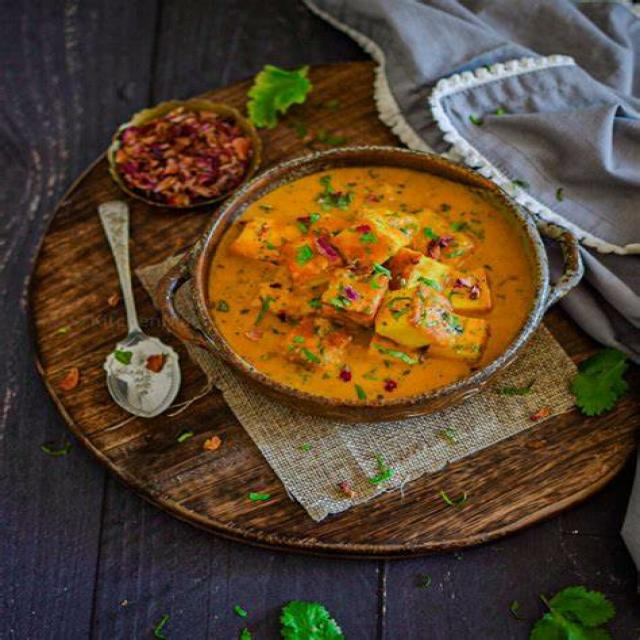ShahiPaneer: (210, 160, 539, 400)
